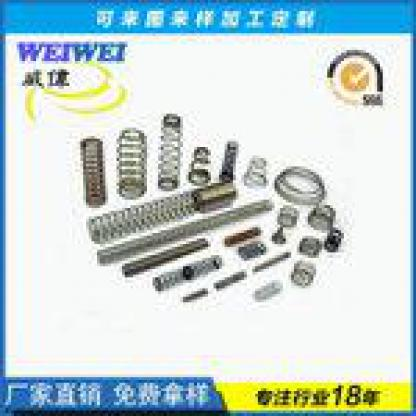FOD: (83, 188, 200, 246), (150, 254, 224, 295), (115, 126, 148, 201), (154, 111, 184, 191), (78, 133, 108, 211), (186, 146, 216, 190), (240, 154, 270, 190), (274, 201, 300, 229), (251, 280, 284, 302), (323, 226, 345, 254)
